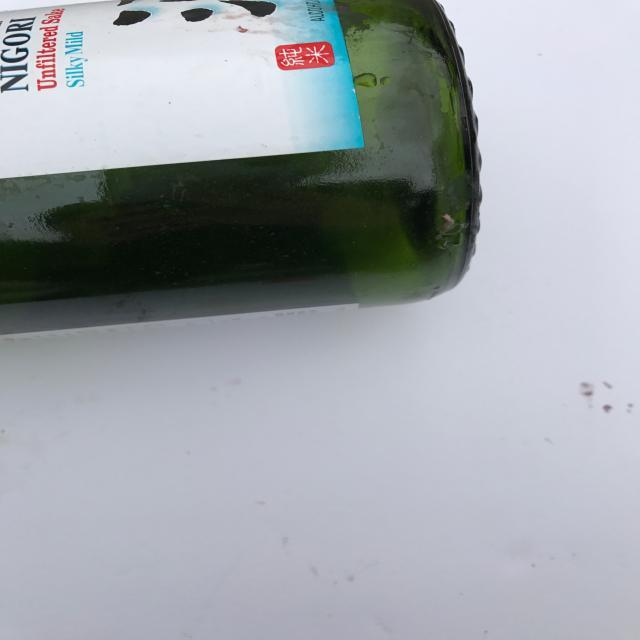glass: (0, 1, 483, 338)
